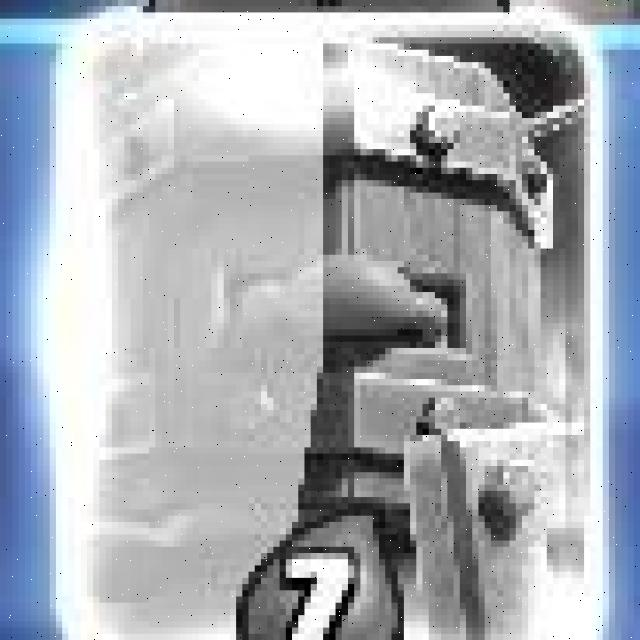Evolved_Recruits: (51, 2, 611, 634)
